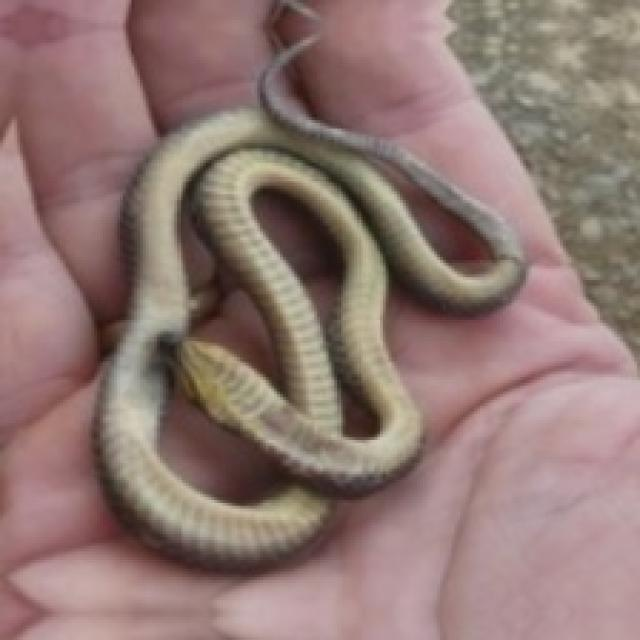gunthers philippine shrub snake: (97, 0, 523, 569), (177, 200, 280, 383), (154, 377, 280, 503), (251, 189, 343, 329)
